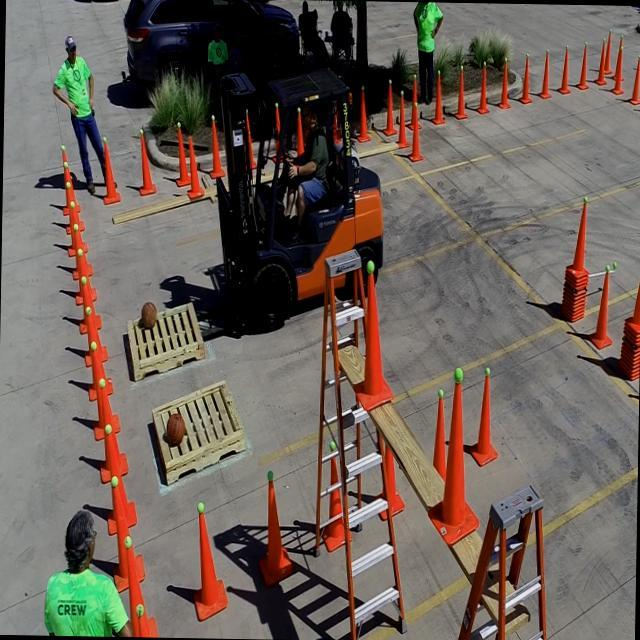driver: (278, 99, 328, 231)
forklift: (212, 75, 385, 321)
person: (44, 508, 128, 636), (55, 32, 105, 173), (413, 2, 438, 99), (210, 24, 227, 77)
